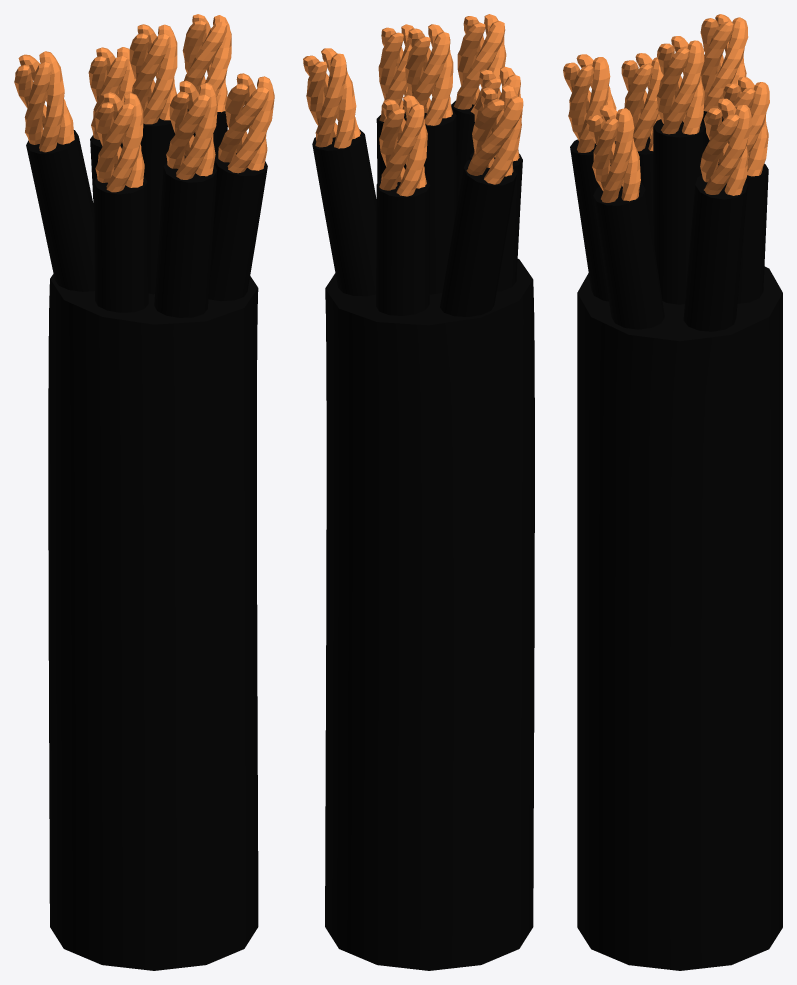
File: Wire.fbx
The picture shows the model from 3 angles, left to right: view 1: azimuth 30°, elevation 25°; view 2: azimuth 150°, elevation 25°; view 3: azimuth 270°, elevation 25°; orthographic projection.
Parts seen in each view (by area): view 1: BézierCurve.002; view 2: BézierCurve.002; view 3: BézierCurve.002.
Boxes of the visible parts, x1,y1,x2,y2 form: BézierCurve.002: [14, 14, 274, 970]; BézierCurve.002: [303, 14, 534, 970]; BézierCurve.002: [563, 14, 782, 970].
Size of the model in its own units: 214 by 849 by 191.
